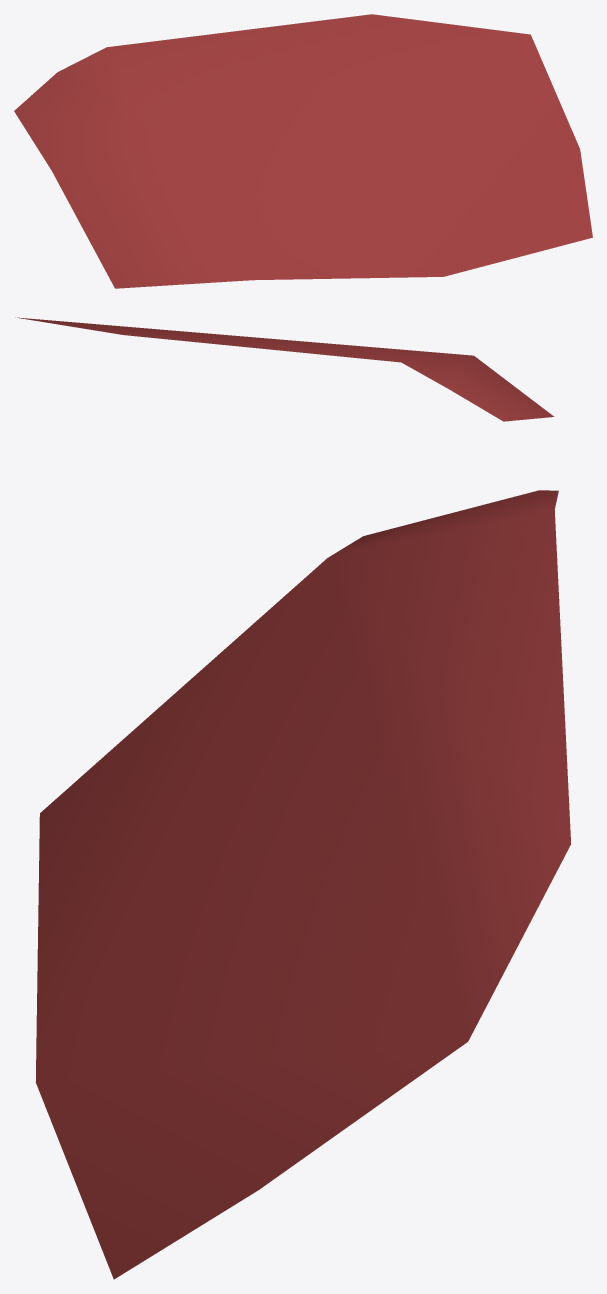
Rendered from flexor-digitorum-profundus-e1l.glb.
The picture shows the model from 3 angles, top to bottom: view 1: azimuth 30°, elevation 25°; view 2: azimuth 150°, elevation 25°; view 3: azimuth 270°, elevation 25°; orthographic projection. The views are drawn at different scales.
Parts seen in each view (by area): view 1: Flexor digitorum profundus.e1l; view 2: Flexor digitorum profundus.e1l; view 3: Flexor digitorum profundus.e1l.
Boxes of the visible parts, x1,y1,x2,y2 form: Flexor digitorum profundus.e1l: (14, 14, 592, 288); Flexor digitorum profundus.e1l: (15, 317, 554, 421); Flexor digitorum profundus.e1l: (35, 490, 570, 1279).
Size of the model in its own units: 0.00384 by 0.00146 by 0.00176.
